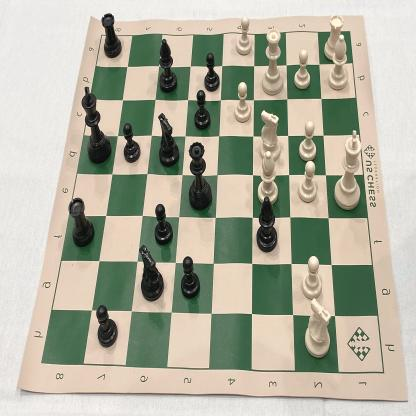black-bishop: (252, 194, 282, 254), (137, 242, 165, 306), (154, 34, 181, 96), (156, 110, 180, 169)
black-king: (80, 81, 114, 167)
black-pawn: (95, 301, 119, 351), (179, 254, 203, 302), (152, 202, 176, 249), (121, 119, 143, 166), (202, 52, 224, 94), (193, 87, 212, 133)
black-queen: (186, 139, 213, 214)
black-rook: (66, 194, 96, 249), (100, 10, 124, 62)
white-bishop: (326, 34, 350, 92), (257, 150, 279, 206)
white-king: (330, 127, 364, 214)
white-knight: (300, 298, 334, 360), (258, 108, 283, 163)
white-pawn: (300, 253, 324, 302), (297, 159, 319, 206), (297, 118, 318, 165), (232, 80, 252, 126), (292, 48, 312, 93), (234, 14, 252, 60)
white-queen: (259, 24, 286, 99)
white-rook: (322, 11, 346, 61)
